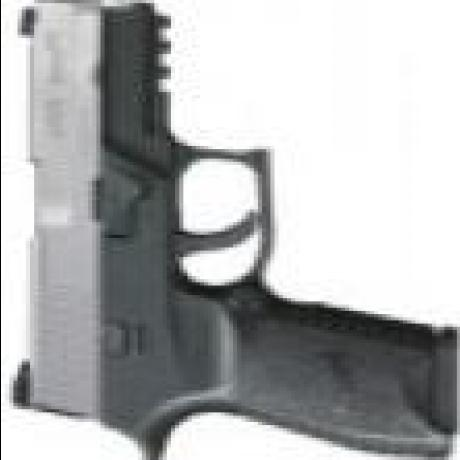weapon: (8, 2, 458, 460)
